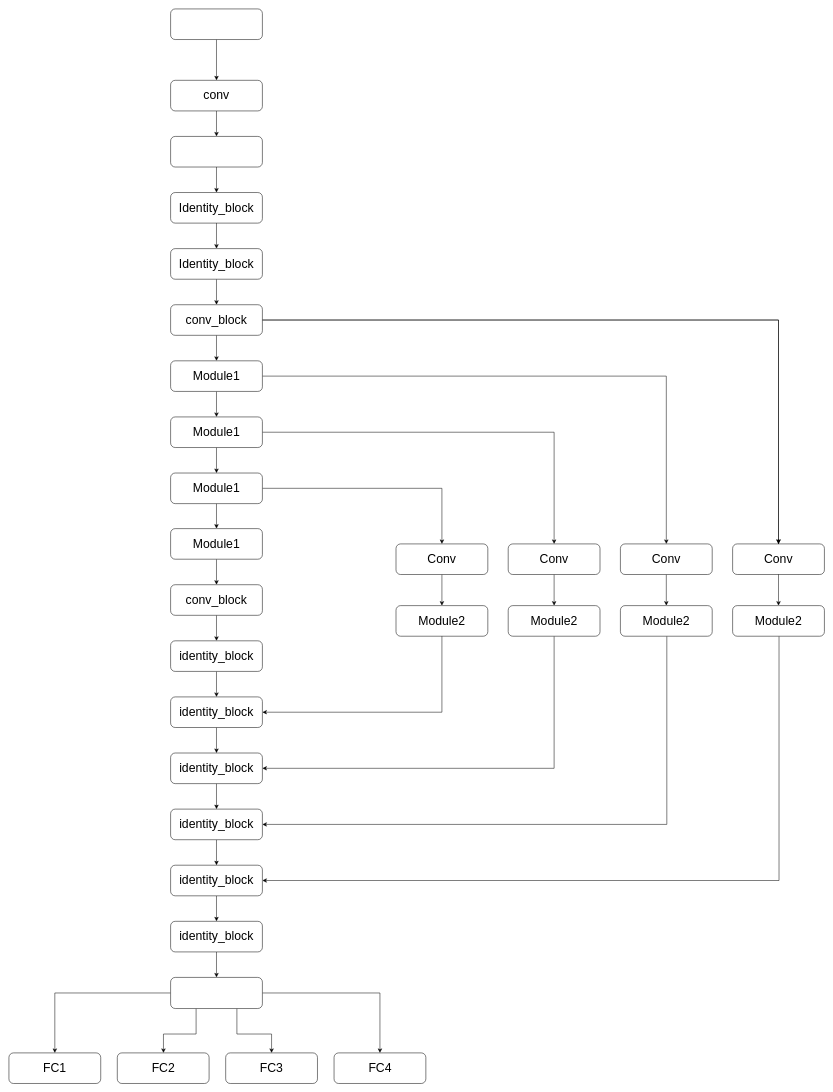
Image size: 833x1092. Some labels were removed from this diagram. The centre of each missing label's shape, as x and y in pixels:
AvgPool: (x=216, y=993)
Input: (x=216, y=24)
MaxPool: (x=216, y=151)
